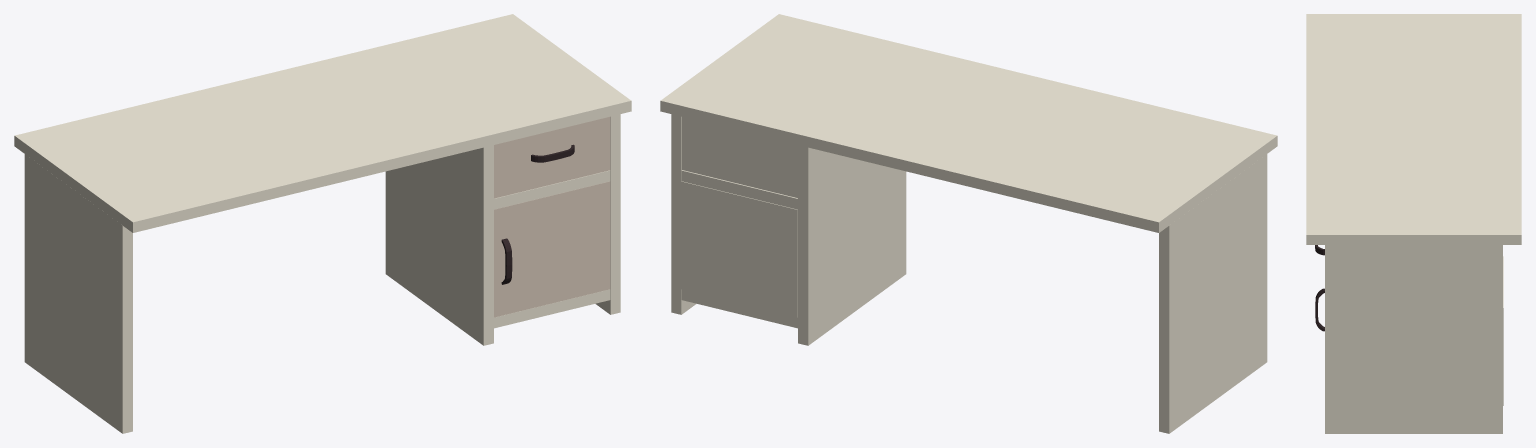
Rendered from Prop_Desk_02.fbx.
The picture shows the model from 3 angles, left to right: view 1: azimuth 30°, elevation 25°; view 2: azimuth 150°, elevation 25°; view 3: azimuth 270°, elevation 25°; orthographic projection. The views are drawn at different scales.
Parts seen in each view (by area): view 1: Prop_Desk_02; view 2: Prop_Desk_02; view 3: Prop_Desk_02.
Part boxes in pixels (x1=…): Prop_Desk_02: x1=14, y1=14, x2=631, y2=433; Prop_Desk_02: x1=660, y1=14, x2=1277, y2=433; Prop_Desk_02: x1=1306, y1=14, x2=1521, y2=433.
Bounding box in the file's own units: 170 × 71.38 × 70.
